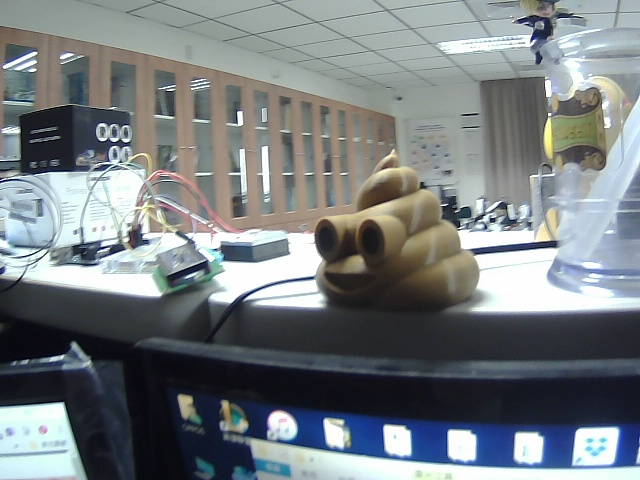shit: (311, 147, 487, 322)
